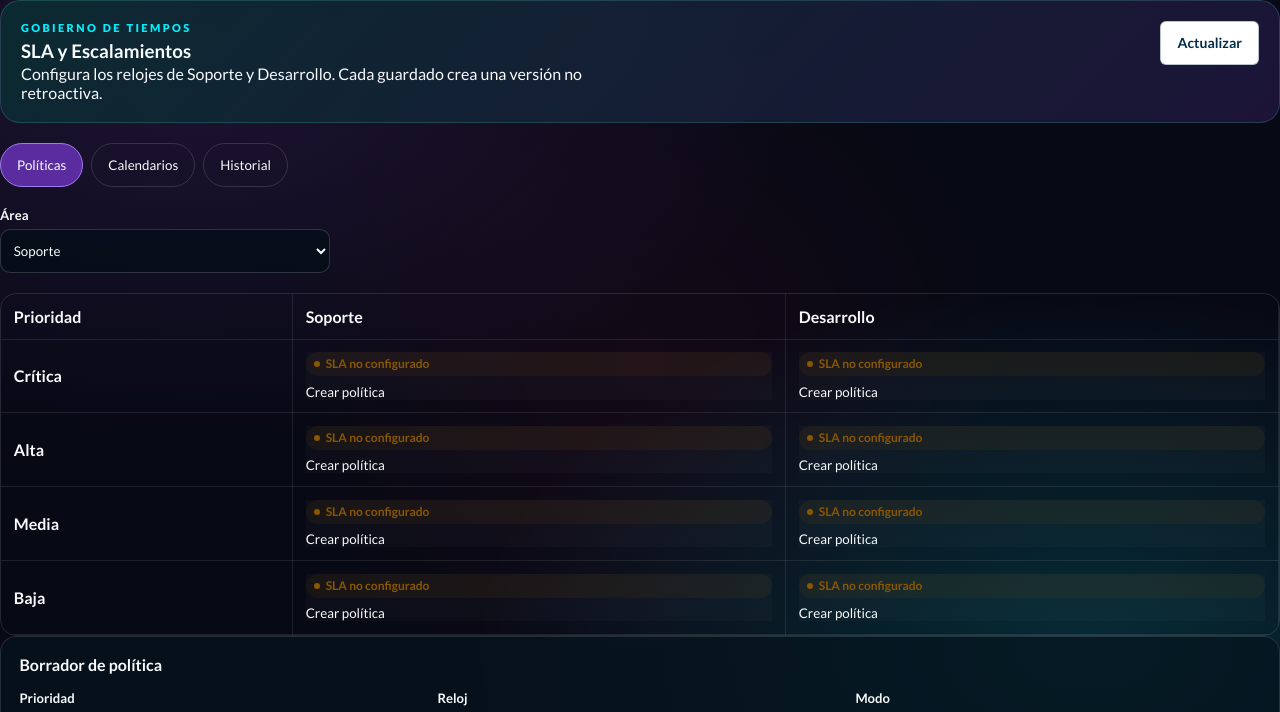
Test case: SlaAdministration › requires a business-hours window but permits 24x7 without one
The image size is (1280, 712).
Expected: the table is shown, top-left (1, 294), bottom-right (1279, 635)
Step 1. Click the tab "Calendarios" → (143, 165), box top-left (91, 143), bottom-right (195, 187)
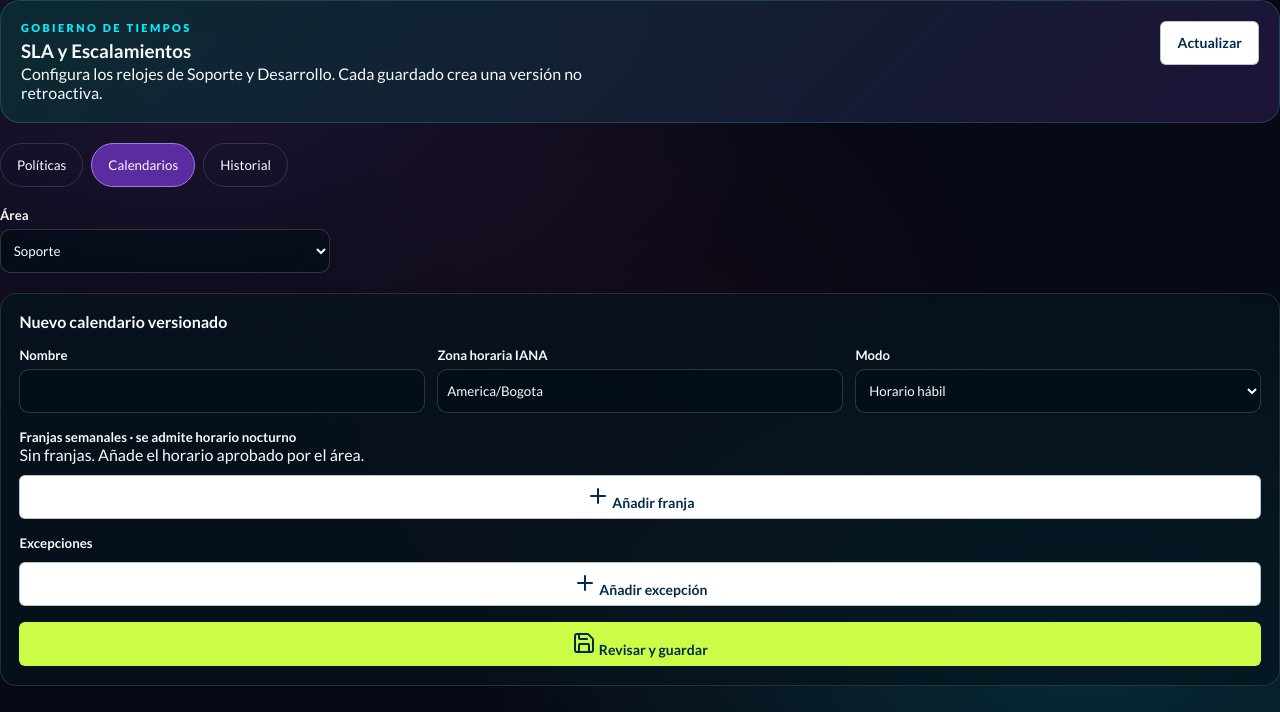
Step 2. Type "Continuo" into the field labelled "Nombre" → (222, 391), box top-left (19, 369), bottom-right (425, 413)
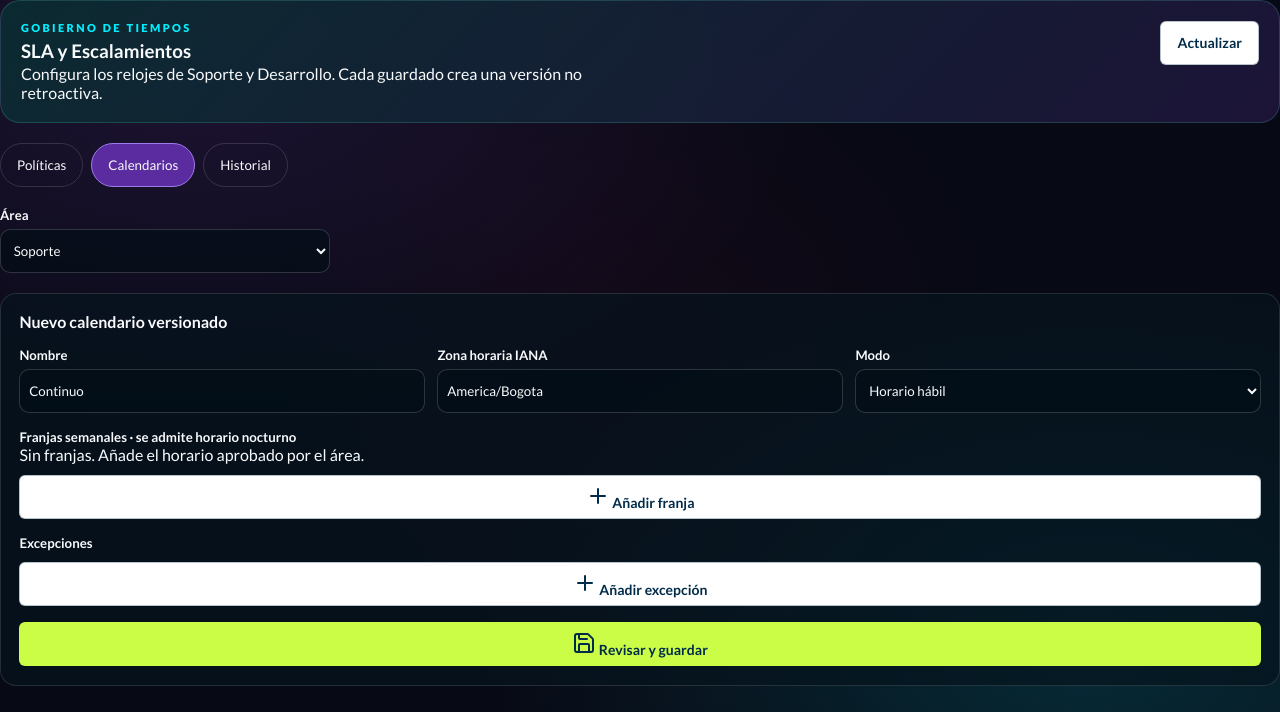
Now the text "Sin franjas. Añade el horario aprobado por el área." is shown, box top-left (19, 445), bottom-right (364, 464)
Step 3. Click the button "Revisar y guardar" → (640, 644), box top-left (19, 622), bottom-right (1261, 666)
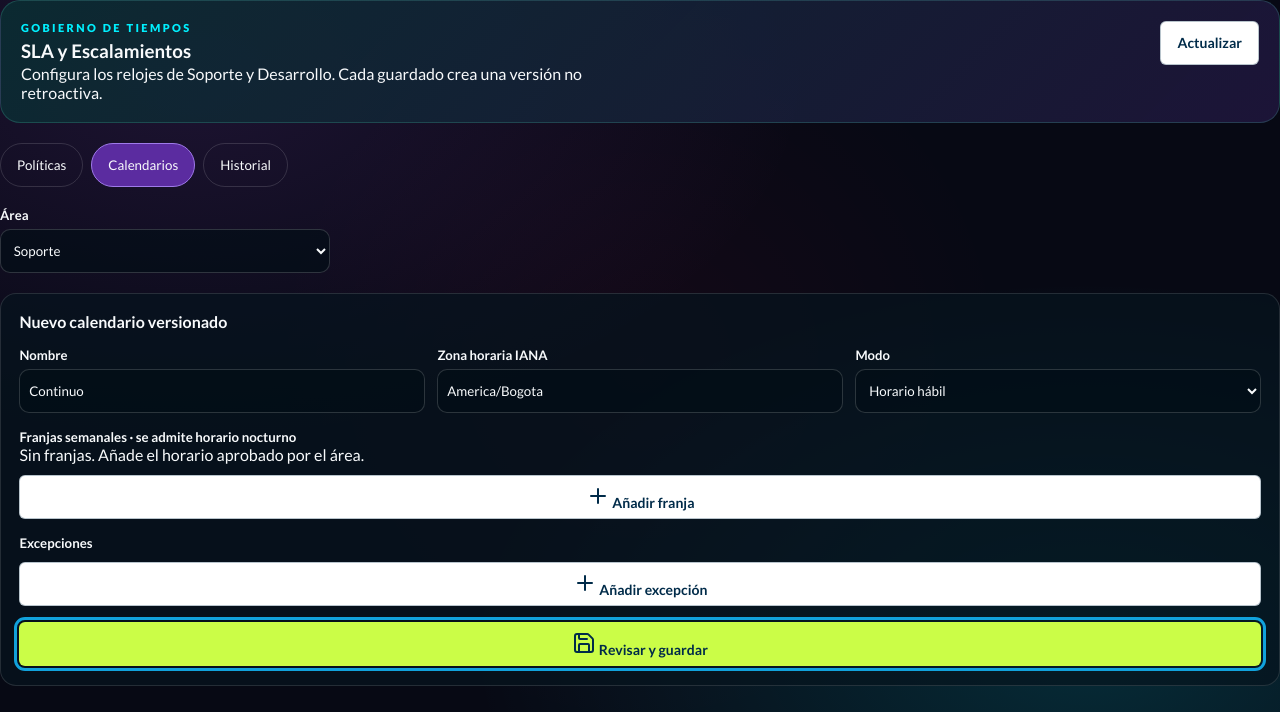
Step 4. Select "24 × 7" in the dropdown labelled "Modo" → (1058, 391), box top-left (855, 369), bottom-right (1261, 413)
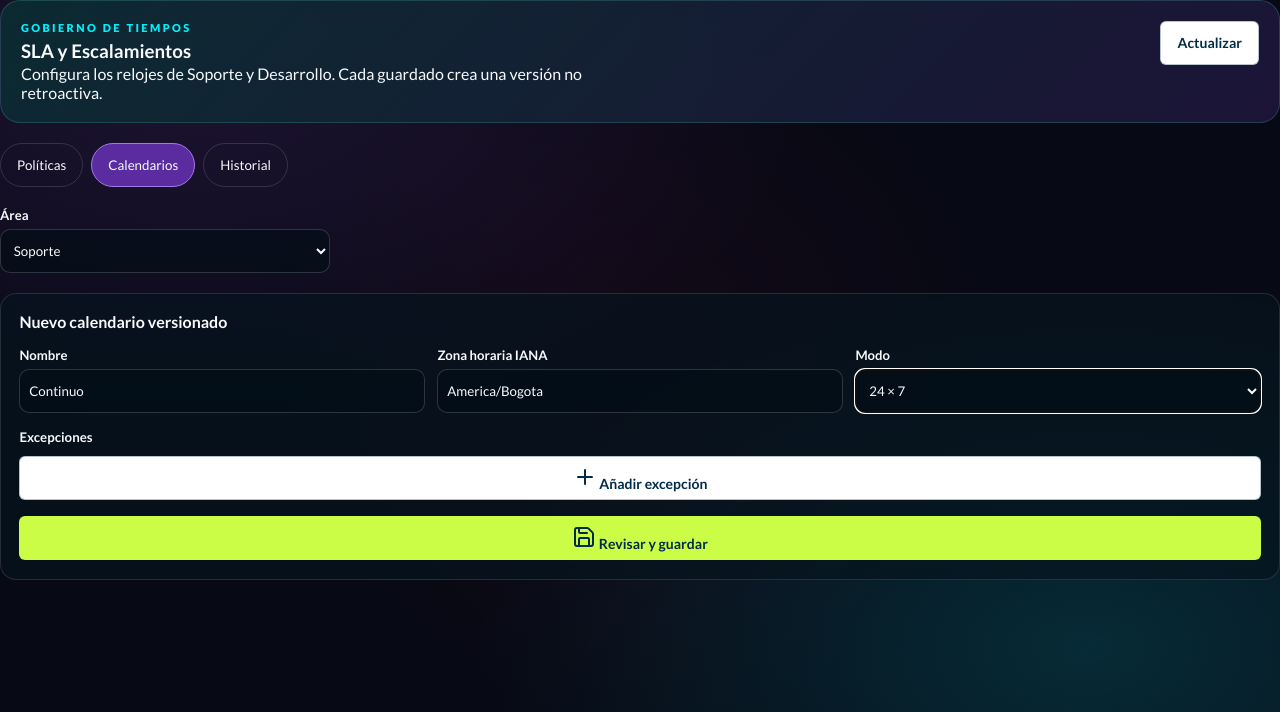
Step 5. Click the button "Revisar y guardar" → (640, 538), box top-left (19, 516), bottom-right (1261, 560)
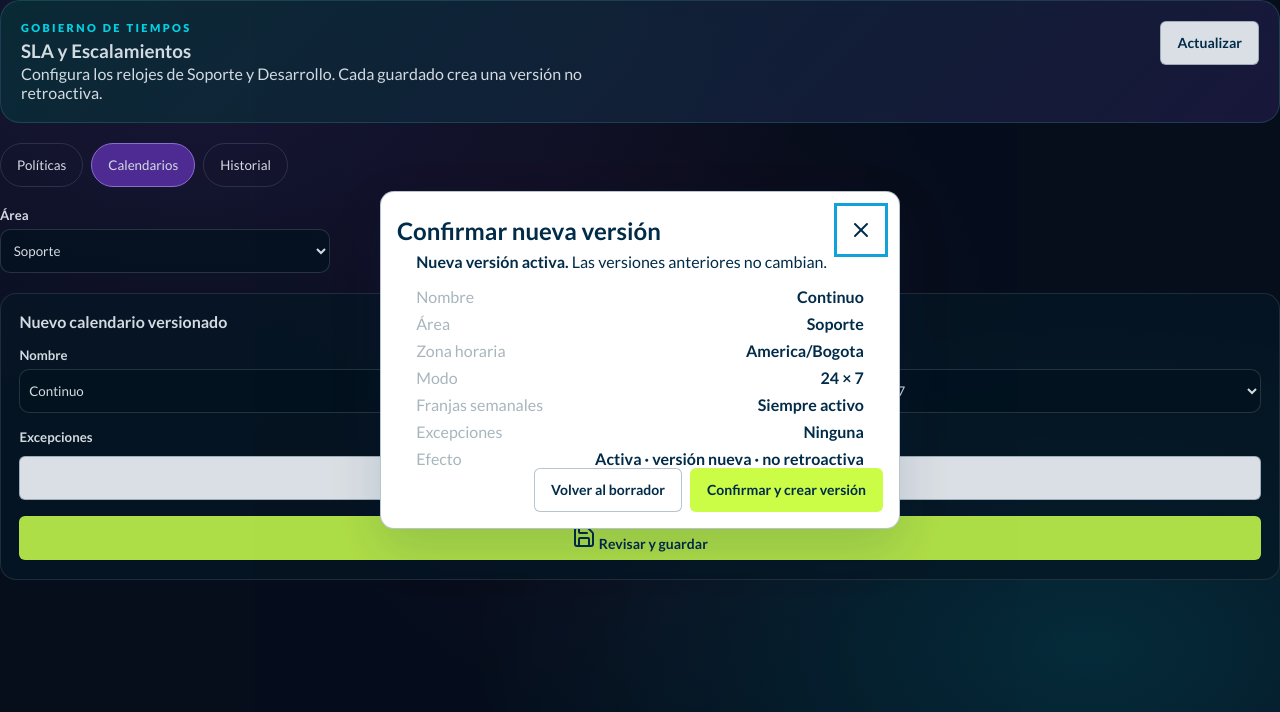
Now the dialog is shown, box top-left (380, 191), bottom-right (900, 529)
